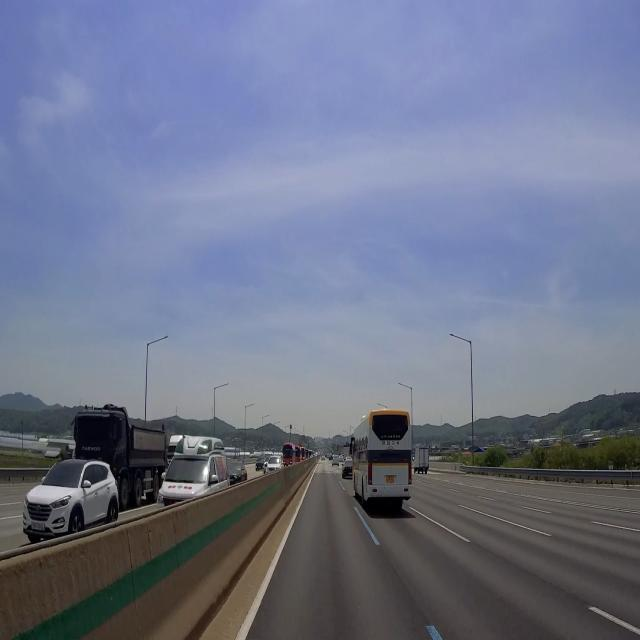car: (29, 517, 47, 538), (383, 472, 397, 492)
